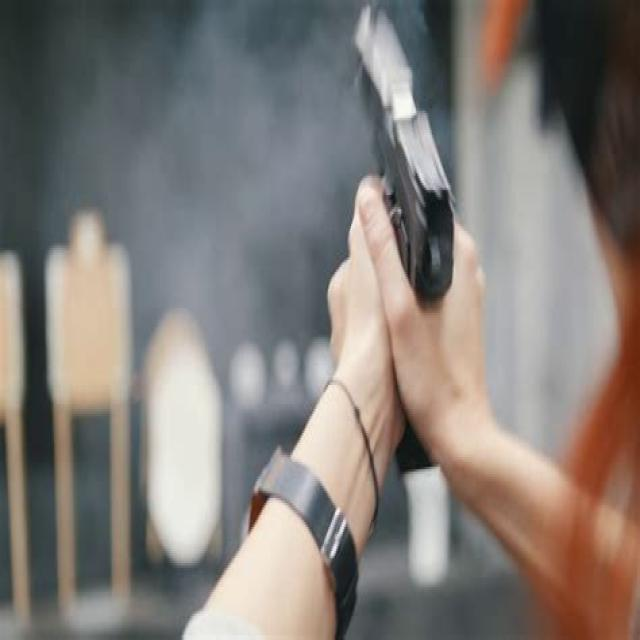weapons: (345, 2, 479, 404)
